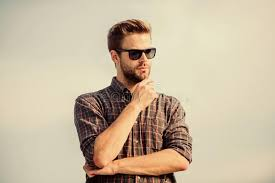g.y: (127, 49, 146, 61)
